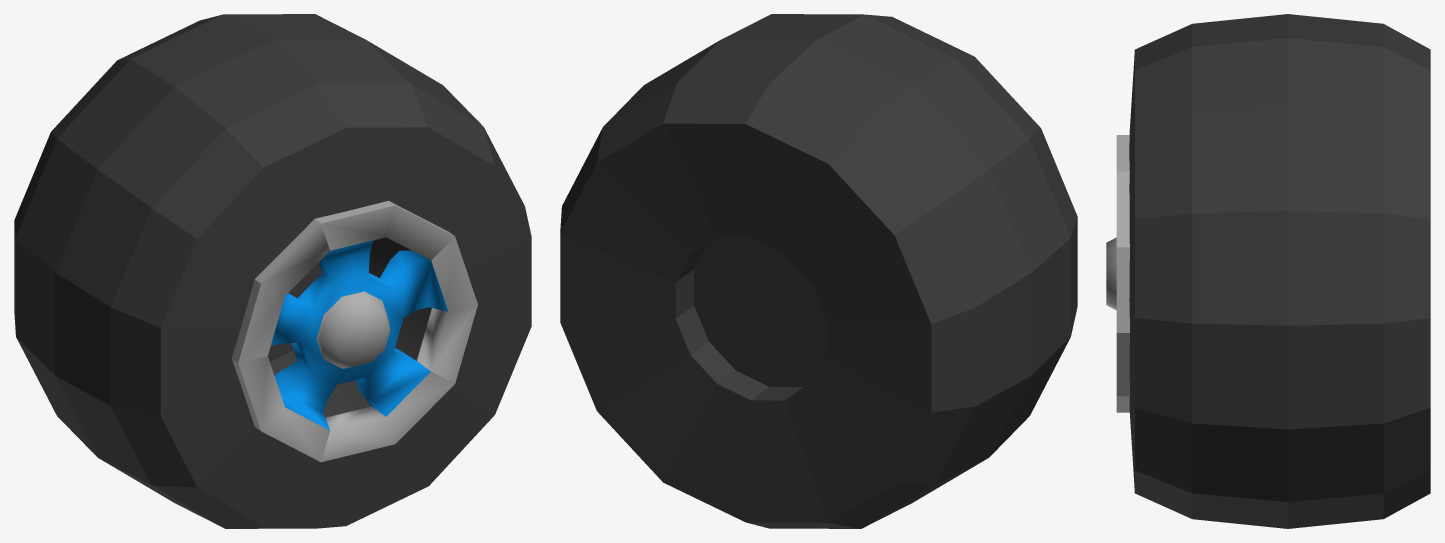
File: wheel3.fbx
3 renders of one model, left to right at view 1: azimuth 30°, elevation 25°; view 2: azimuth 150°, elevation 25°; view 3: azimuth 270°, elevation 25°, orthographic.
Parts seen in each view (by area): view 1: lanot_wheel1_L; view 2: lanot_wheel1_L; view 3: lanot_wheel1_L.
Part boxes in pixels (bbox=[...]): lanot_wheel1_L: bbox=[14, 14, 531, 528]; lanot_wheel1_L: bbox=[560, 14, 1077, 528]; lanot_wheel1_L: bbox=[1106, 14, 1430, 528].
Bounding box in the file's own units: 152 × 156 × 98.25.
